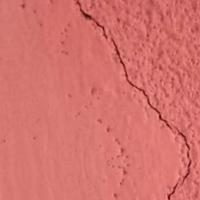crack: (77, 3, 199, 199)
